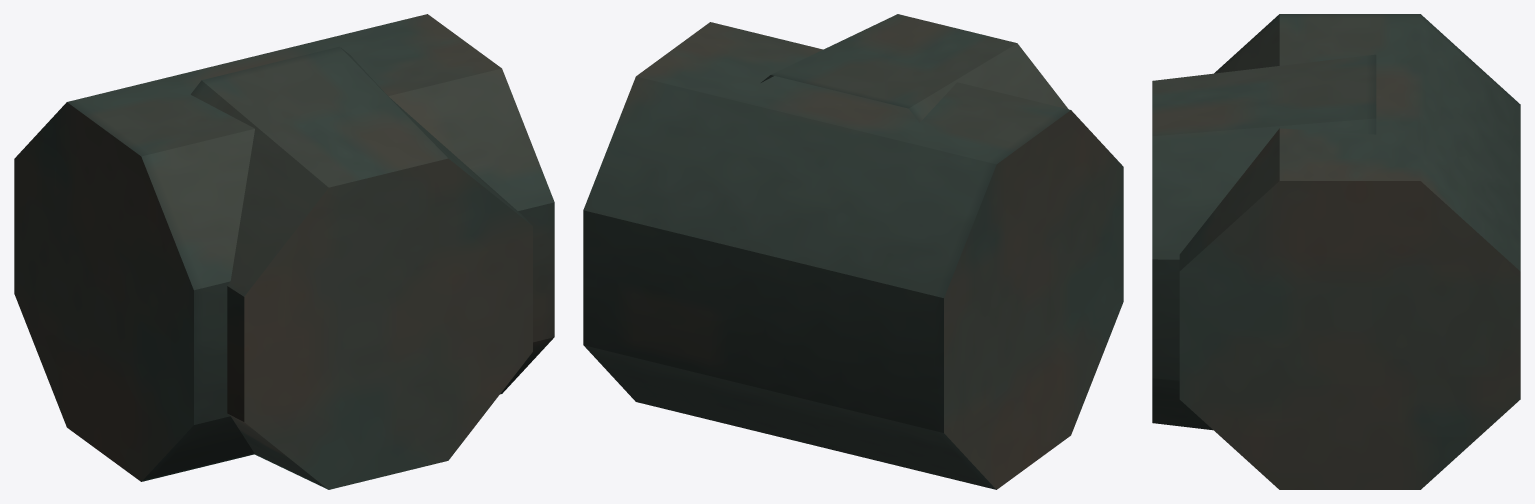
The model's file is SM_MachProp_PipeRun_Tee_30x30x30.fbx.
3 renders of one model, left to right at view 1: azimuth 30°, elevation 25°; view 2: azimuth 150°, elevation 25°; view 3: azimuth 270°, elevation 25°, orthographic. The views are drawn at different scales.
Parts seen in each view (by area): view 1: SM_MachProp_PipeRun_Tee_30x30x30.001; view 2: SM_MachProp_PipeRun_Tee_30x30x30.001; view 3: SM_MachProp_PipeRun_Tee_30x30x30.001.
Boxes of the visible parts, bbox=[...] form: SM_MachProp_PipeRun_Tee_30x30x30.001: bbox=[14, 14, 554, 489]; SM_MachProp_PipeRun_Tee_30x30x30.001: bbox=[583, 14, 1123, 489]; SM_MachProp_PipeRun_Tee_30x30x30.001: bbox=[1152, 14, 1520, 489].
Size of the model in its own units: 0.3 by 0.2772 by 0.2793.
